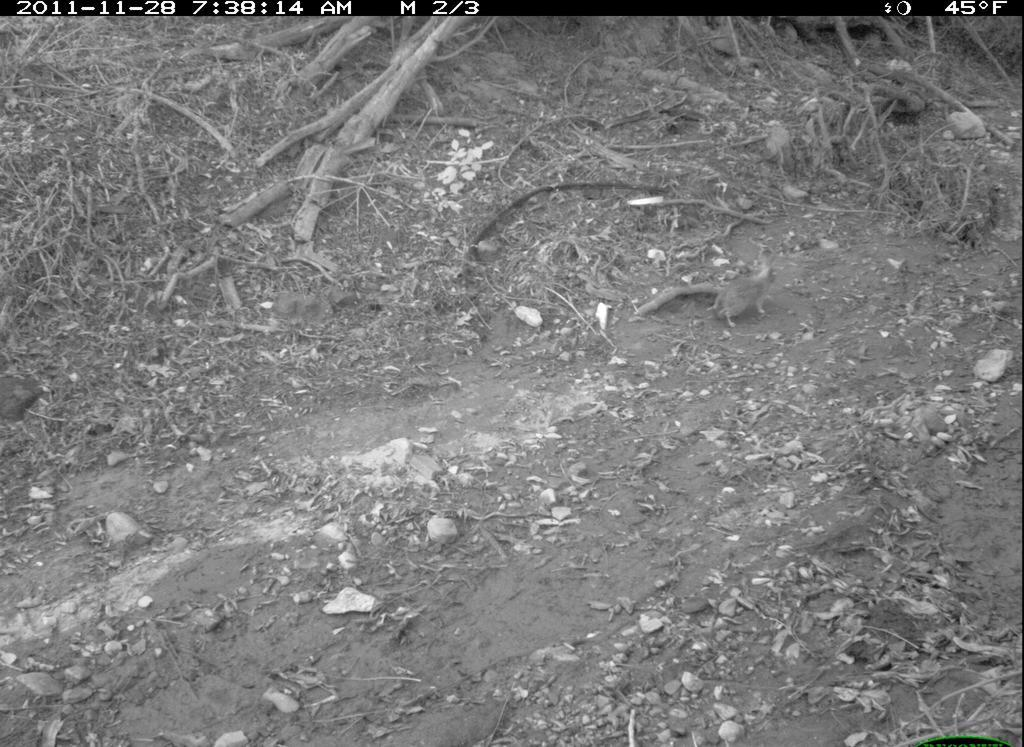rabbit: (708, 259, 789, 341)
